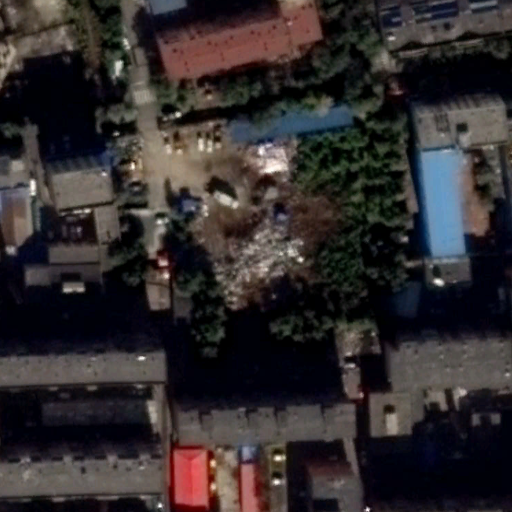msw: (207, 219, 305, 306)
